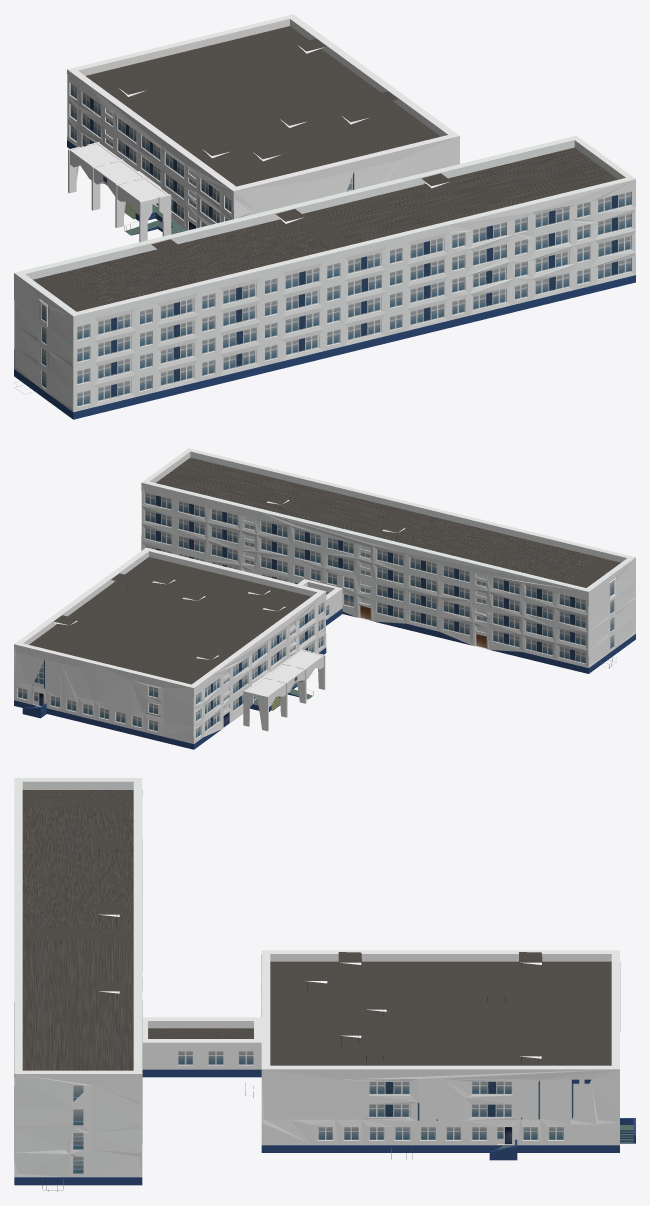
The model's file is z_school.glb.
3 views of the same model, one above another, from view 1: azimuth 30°, elevation 25°; view 2: azimuth 150°, elevation 25°; view 3: azimuth 270°, elevation 25° (orthographic). The views are drawn at different scales.
Parts seen in each view (by area): view 1: Object_4, Object_7, Object_10, Object_9, Object_3; view 2: Object_4, Object_7, Object_10, Object_9, Object_5, Object_3; view 3: Object_7, Object_4, Object_5, Object_9, Object_3.
Part boxes in pixels (x1,y1,x2,y2): Object_4: (14,135,635,419); Object_7: (67,14,459,230); Object_10: (68,142,171,242); Object_9: (118,38,451,251); Object_3: (124,201,185,235); Object_4: (141,448,635,673); Object_7: (14,547,326,749); Object_10: (243,649,325,731); Object_9: (54,494,504,663); Object_5: (297,579,342,625); Object_3: (22,682,312,718); Object_7: (261,950,620,1152); Object_4: (14,778,142,1185); Object_5: (142,1017,261,1077); Object_9: (96,838,542,1065); Object_3: (489,1118,635,1160).
Size of the model in its own units: 2.59 by 0.4606 by 2.21.
Materials: 8 (6 with a texture image).
